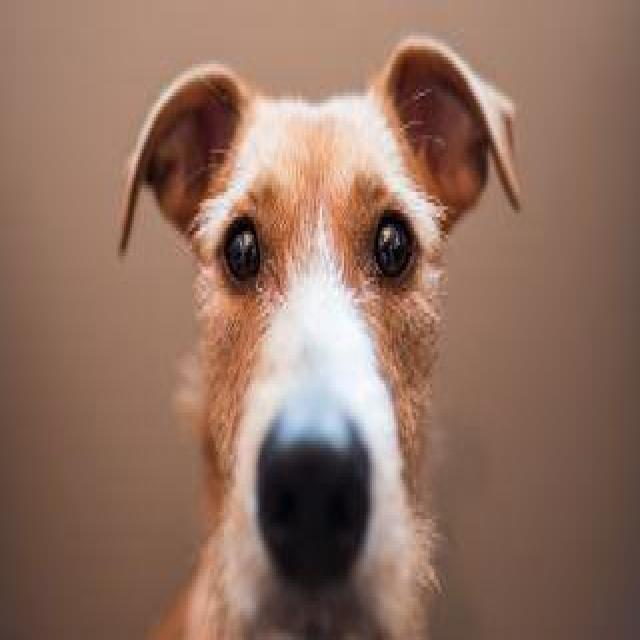Dog: (112, 20, 530, 638)
